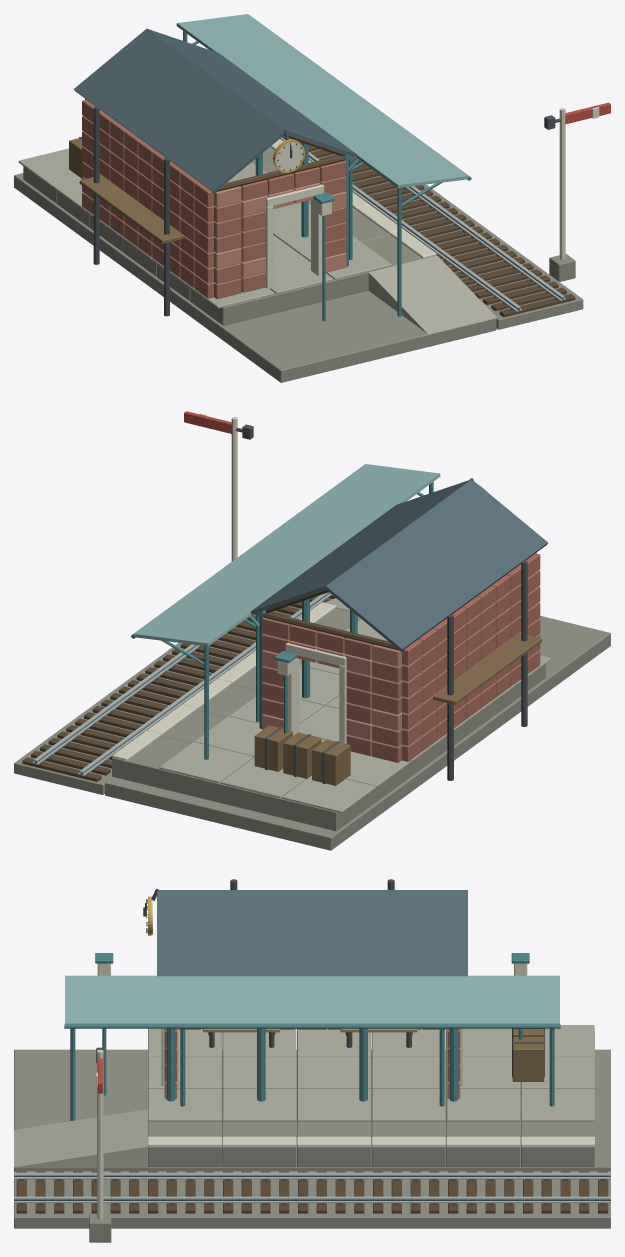
File: train-station.glb
3 views of the same model, one above another, from view 1: azimuth 30°, elevation 25°; view 2: azimuth 150°, elevation 25°; view 3: azimuth 270°, elevation 25° (orthographic). The views are drawn at different scales.
Parts seen in each view (by area): view 1: Foundation_mesh, PlatformCourse_mesh, PlatformRamp_mesh, StationWallCourse.006_mesh, Scaffold_mesh, TrackSleepers_mesh, StationRoof.017_mesh, StationWallCourse.005_mesh, StationRoof.009_mesh, StationRoof.013_mesh, StationRoof.005_mesh, StationRoof.001_mesh (+34 smaller); view 2: PlatformCourse.005_mesh, Foundation_mesh, PlatformCourse.004_mesh, StationWallCourse.006_mesh, PlatformAmenities_mesh, Scaffold_mesh, PlatformCourse.003_mesh, StationWallCourse.005_mesh, StationRoof.017_mesh, StationRoof.005_mesh, StationRoof.009_mesh, StationRoof.013_mesh (+32 smaller); view 3: TrackBallast_mesh, Foundation_mesh, PlatformCourse.003_mesh, PlatformCourse.001_mesh, PlatformCourse.002_mesh, PlatformCourse.004_mesh, PlatformCourse.005_mesh, PlatformCourse_mesh, PlatformRamp_mesh, StationRoof.007_mesh, StationRoof.011_mesh, StationRoof.015_mesh (+21 smaller).
Part boxes in pixels (<box>): Foundation_mesh: <box>14,173,496,382</box>; PlatformCourse_mesh: <box>185,229,436,325</box>; PlatformRamp_mesh: <box>368,255,496,334</box>; StationWallCourse.006_mesh: <box>82,99,346,207</box>; Scaffold_mesh: <box>79,106,183,316</box>; TrackSleepers_mesh: <box>448,251,575,317</box>; StationRoof.017_mesh: <box>74,77,228,192</box>; StationWallCourse.005_mesh: <box>82,116,346,222</box>; StationRoof.009_mesh: <box>103,53,257,168</box>; StationRoof.013_mesh: <box>88,65,243,180</box>; StationRoof.005_mesh: <box>118,41,272,156</box>; StationRoof.001_mesh: <box>132,28,285,144</box>; PlatformCourse.005_mesh: <box>112,730,375,831</box>; Foundation_mesh: <box>105,616,610,850</box>; PlatformCourse.004_mesh: <box>147,704,410,805</box>; StationWallCourse.006_mesh: <box>262,553,540,666</box>; PlatformAmenities_mesh: <box>254,651,350,785</box>; Scaffold_mesh: <box>433,560,541,780</box>; PlatformCourse.003_mesh: <box>182,679,445,779</box>; StationWallCourse.005_mesh: <box>262,570,540,682</box>; StationRoof.017_mesh: <box>386,530,548,651</box>; StationRoof.005_mesh: <box>340,492,501,613</box>; StationRoof.009_mesh: <box>355,504,517,625</box>; StationRoof.013_mesh: <box>370,517,532,638</box>; TrackBallast_mesh: <box>14,1171,610,1228</box>; Foundation_mesh: <box>14,1049,610,1171</box>; PlatformCourse.003_mesh: <box>371,1028,445,1166</box>; PlatformCourse.001_mesh: <box>222,1028,296,1166</box>; PlatformCourse.002_mesh: <box>297,1028,370,1166</box>; PlatformCourse.004_mesh: <box>446,1028,520,1166</box>; PlatformCourse.005_mesh: <box>521,1025,594,1166</box>; PlatformCourse_mesh: <box>148,1028,221,1166</box>; PlatformRamp_mesh: <box>14,1109,147,1167</box>; StationRoof.007_mesh: <box>157,907,467,924</box>; StationRoof.011_mesh: <box>157,925,467,942</box>; StationRoof.015_mesh: <box>157,942,467,959</box>.
Bounding box in the file's own units: 6.48 × 2.98 × 7.6.
